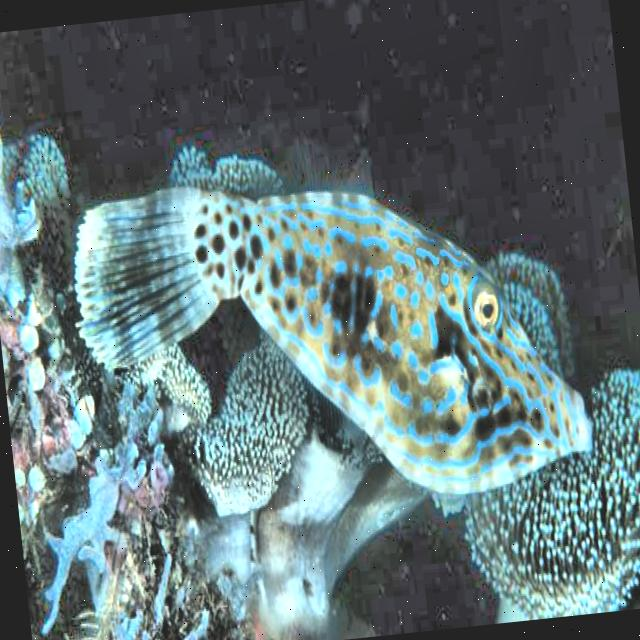fish: (65, 142, 598, 530)
